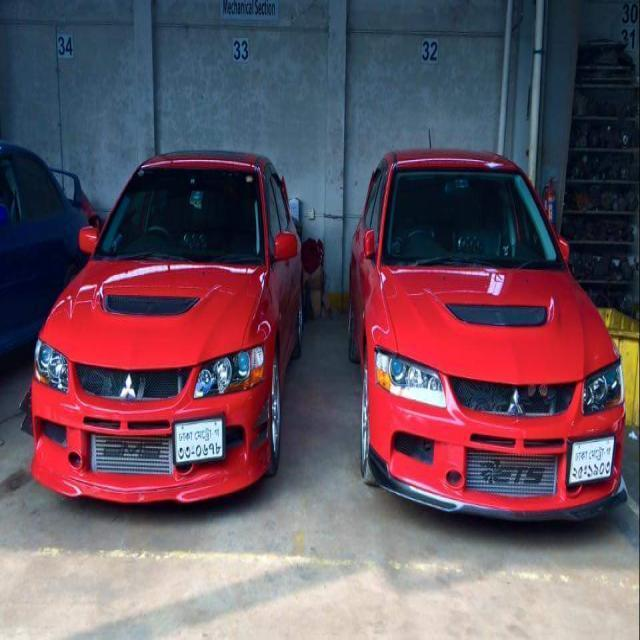numberplate: (463, 449, 558, 496), (88, 433, 172, 475), (172, 416, 226, 465), (566, 434, 615, 487)
